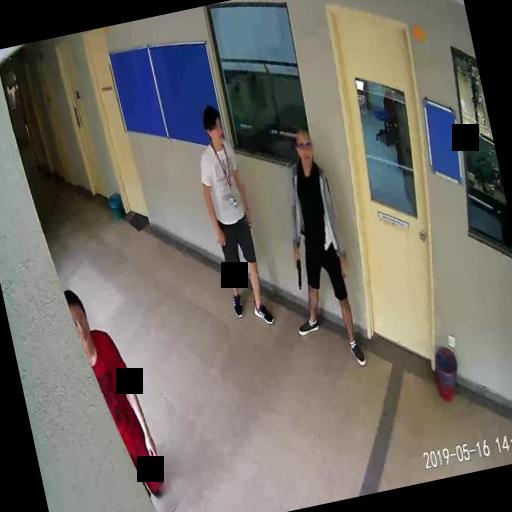Handgun: (290, 254, 304, 288)
